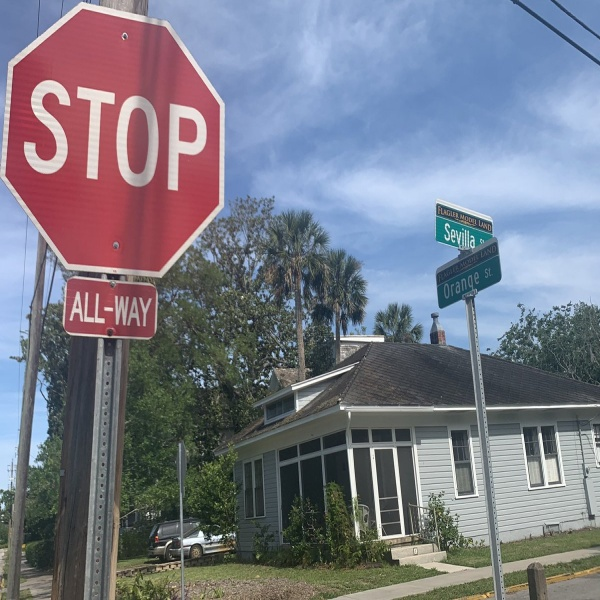stop: (508, 172, 578, 268)
